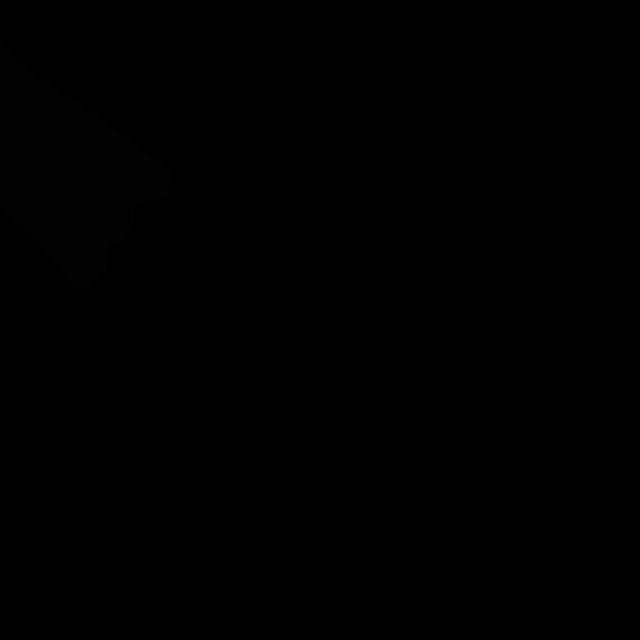cardboard: (0, 41, 174, 293)
